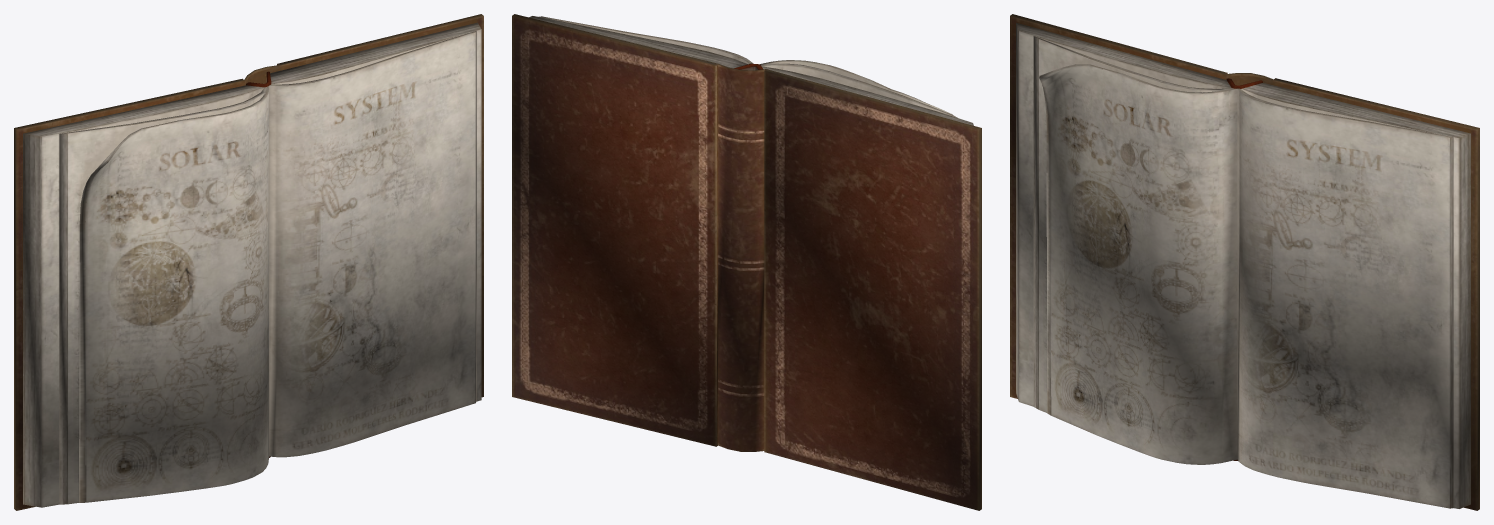
3 renders of one model, left to right at view 1: azimuth 30°, elevation 25°; view 2: azimuth 150°, elevation 25°; view 3: azimuth 330°, elevation 25°, orthographic.
Parts seen in each view (by area): view 1: Book_02_low; view 2: Book_02_low; view 3: Book_02_low.
Part boxes in pixels (left/top/right/bottom): Book_02_low: left=14, top=14, right=483, bottom=510; Book_02_low: left=512, top=14, right=981, bottom=510; Book_02_low: left=1010, top=14, right=1479, bottom=510.
Bounding box in the file's own units: 2 × 1.56 × 0.2525.
Materials: 1 (1 with a texture image).
